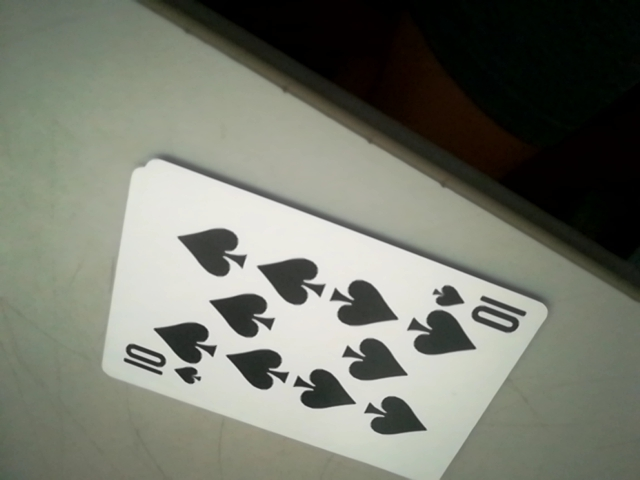ht 10: (114, 345, 210, 389)
